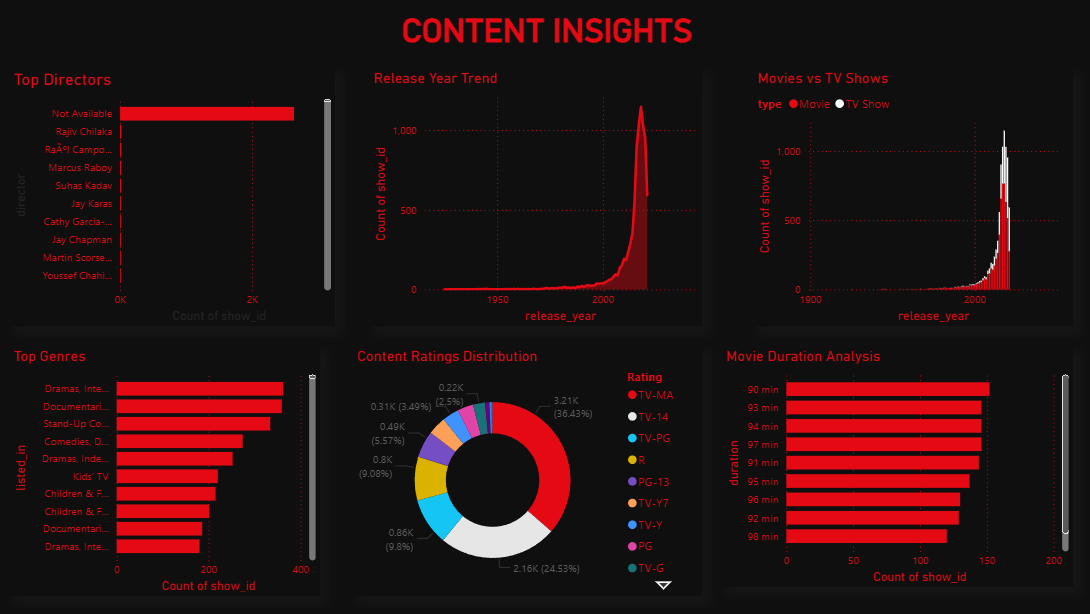

The page's visual inventory and layout, read from the dashboard file:
{"tool":"powerbi","page":{"name":"Content Insights","canvas":[1280,720],"ordinal":1},"visuals":[{"type":"textbox","title":"CONTENT INSIGHTS","box":[459.6,14,363.2,43.9],"z":0},{"type":"barChart","title":"Top Directors","fields":{"Category":["netflix_cleaned.director"],"Y":["CountNonNull(netflix_cleaned.show_id)"]},"box":[12.3,82.5,380.7,300],"z":1000},{"type":"barChart","title":"Top Genres","fields":{"Category":["netflix_cleaned.listed_in"],"Y":["CountNonNull(netflix_cleaned.show_id)"]},"box":[12.3,407,363.2,291.2],"z":2000},{"type":"areaChart","title":"Release Year Trend","fields":{"Category":["netflix_cleaned.release_year"],"Y":["CountNonNull(netflix_cleaned.show_id)"]},"box":[433.3,82.5,389.5,300],"z":3000},{"type":"columnChart","title":"Movies vs TV Shows","fields":{"Category":["netflix_cleaned.release_year"],"Series":["netflix_cleaned.type"],"Y":["CountNonNull(netflix_cleaned.show_id)"]},"box":[882.5,82.5,373.7,300],"z":4000},{"type":"donutChart","title":"Content Ratings Distribution","fields":{"Category":["netflix_cleaned.rating"],"Y":["CountNonNull(netflix_cleaned.show_id)"]},"box":[414,407,408.8,291.2],"z":4001},{"type":"barChart","title":"Movie Duration Analysis","fields":{"Category":["netflix_cleaned.duration"],"Y":["CountNonNull(netflix_cleaned.show_id)"]},"box":[845.6,407,410.5,280.7],"z":4002}]}

Visuals, with their boxes in screenshot pixels (x1, y1, x2, y2), scaled from the page's 1280x720 canvas onto the 1090x614 screenshot:
"CONTENT INSIGHTS" textbox: [left=391, top=12, right=701, bottom=49]
"Top Directors" barChart: [left=10, top=70, right=335, bottom=326]
"Top Genres" barChart: [left=10, top=347, right=320, bottom=595]
"Release Year Trend" areaChart: [left=369, top=70, right=701, bottom=326]
"Movies vs TV Shows" columnChart: [left=752, top=70, right=1070, bottom=326]
"Content Ratings Distribution" donutChart: [left=353, top=347, right=701, bottom=595]
"Movie Duration Analysis" barChart: [left=720, top=347, right=1070, bottom=586]
